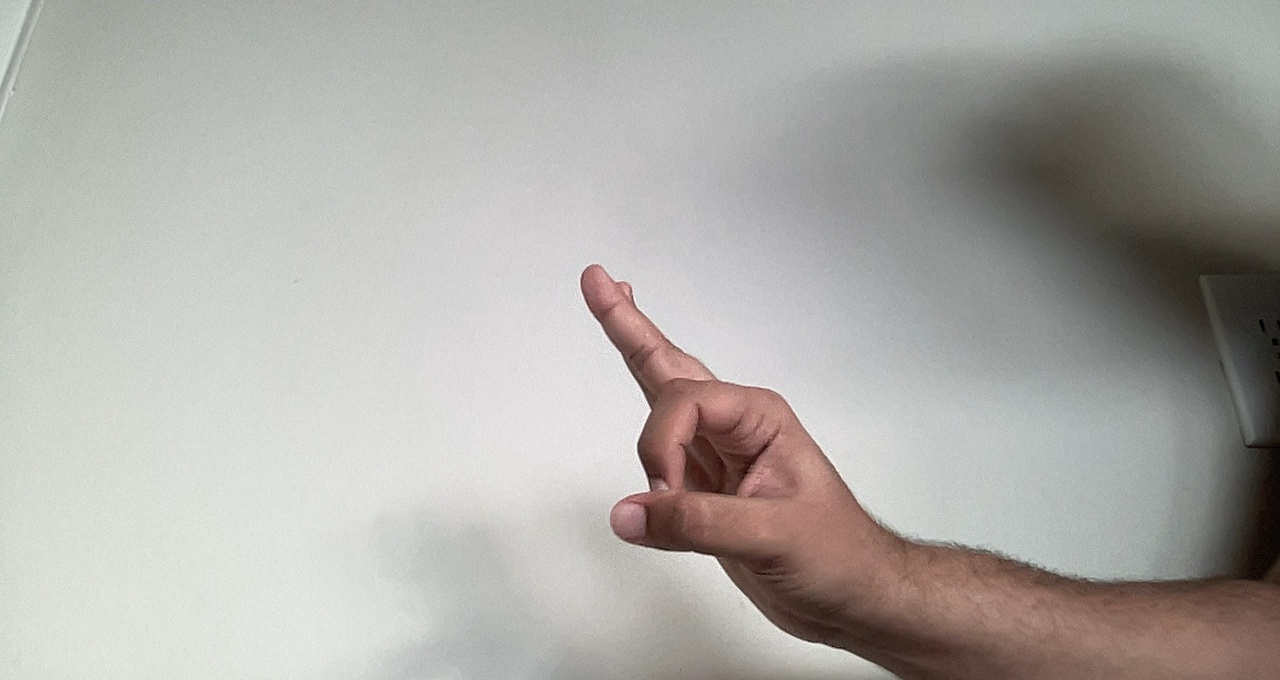ok: (540, 233, 889, 631)
